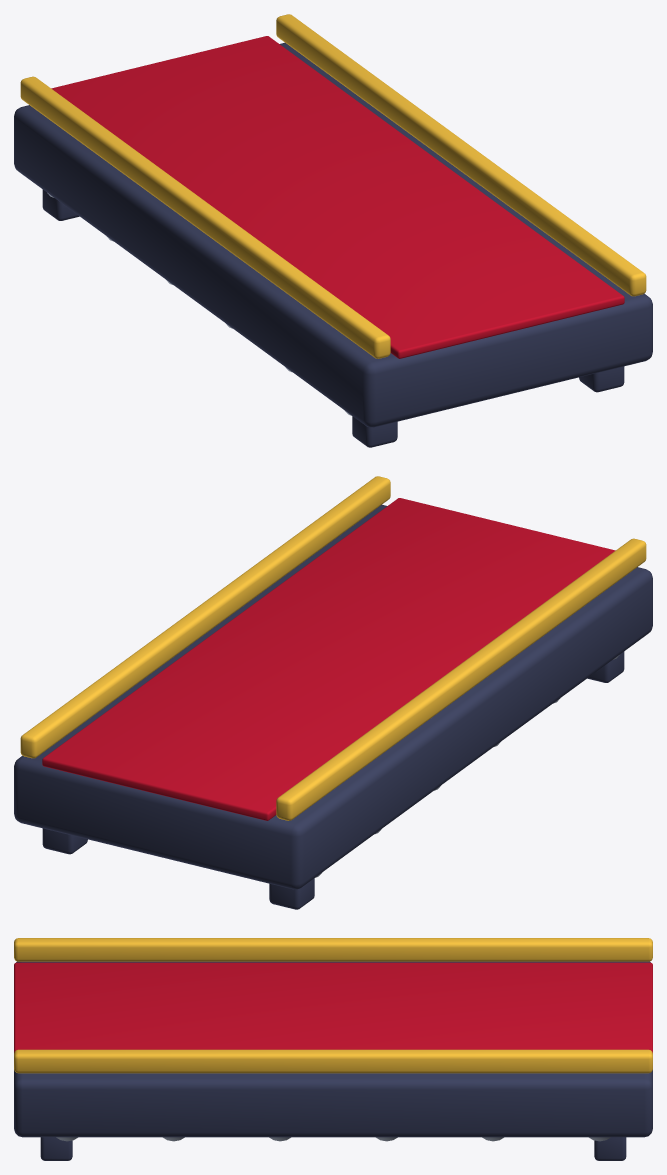
The model's file is SM_ConveyorSegment.fbx.
3 views of the same model, one above another, from view 1: azimuth 30°, elevation 25°; view 2: azimuth 150°, elevation 25°; view 3: azimuth 270°, elevation 25° (orthographic). The views are drawn at different scales.
Parts seen in each view (by area): view 1: SM_ConveyorSegment; view 2: SM_ConveyorSegment; view 3: SM_ConveyorSegment.
Part boxes in pixels (bbox=[...]): SM_ConveyorSegment: bbox=[14, 14, 652, 447]; SM_ConveyorSegment: bbox=[14, 476, 652, 909]; SM_ConveyorSegment: bbox=[14, 938, 652, 1160].
Size of what is drawn, in the model's own units: 1.4 by 0.57 by 3.
Materials: 1 (1 with a texture image).
